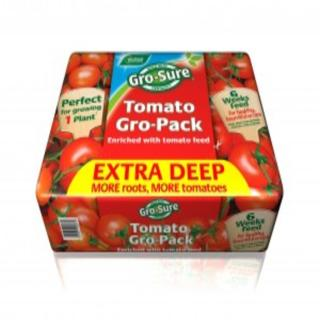tomato: (226, 138, 277, 186), (60, 136, 99, 188), (47, 196, 88, 240), (94, 214, 132, 246), (33, 167, 62, 205), (212, 119, 234, 157), (70, 65, 102, 87), (224, 56, 253, 78)
